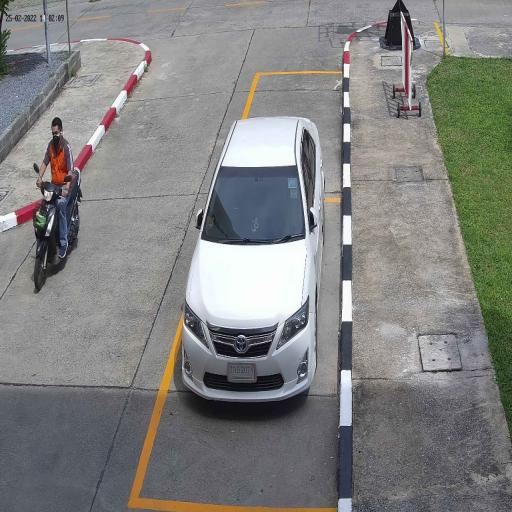car: (180, 114, 328, 410)
motorcycle: (29, 180, 84, 294)
